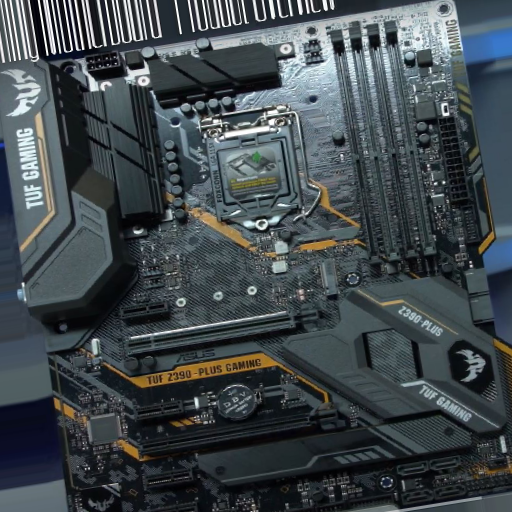CPU: (198, 104, 308, 231)
GPU: (138, 401, 339, 458), (124, 306, 321, 358)
MOTHERBOARD: (56, 5, 510, 512)
RAM: (330, 22, 440, 268)
SSD: (319, 258, 340, 298)
